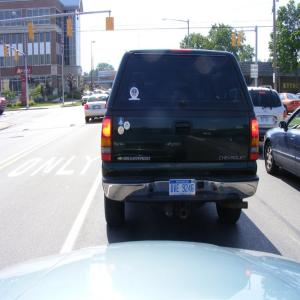Vehicle-registration-plate: (170, 180, 196, 196)
